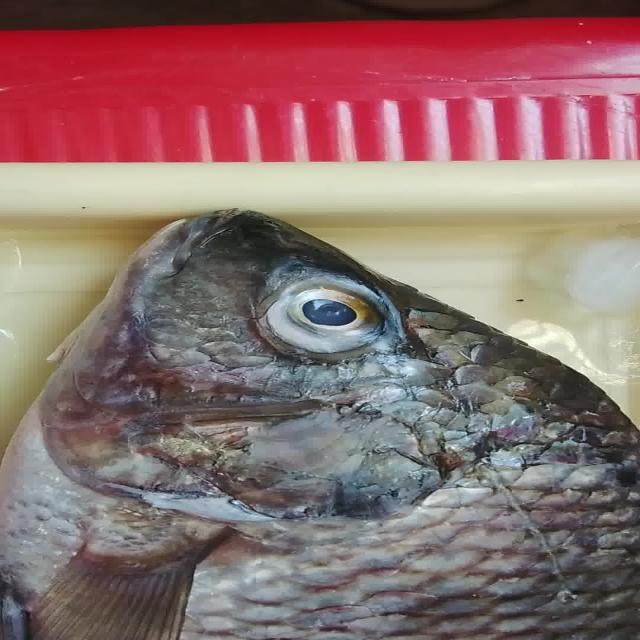Fresh: (247, 278, 402, 363)
